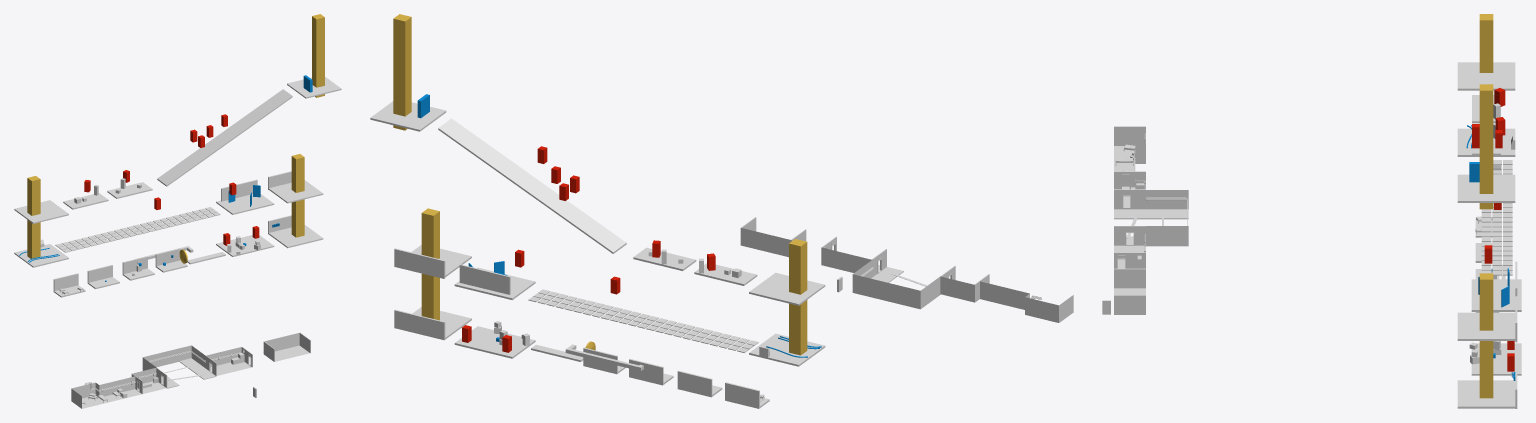
Rendered from project11_blockout2.fbx.
The picture shows the model from 3 angles, left to right: view 1: azimuth 30°, elevation 25°; view 2: azimuth 150°, elevation 25°; view 3: azimuth 270°, elevation 25°; orthographic projection. The views are drawn at different scales.
Parts seen in each view (by area): view 1: Cube.068, Plane.005, Cube.055, Cube.031, Plane.007, Cube.071, Plane.003, Plane.002, Cube.042, Cube.053, Cube.030, Cube.032 (+14 smaller); view 2: Cube.068, Plane.005, Cube.055, Cube.071, Cube.031, Cube.050, Cube.056, Cube.053, Cube.051, Plane.007, Cube.019, Plane.003 (+12 smaller); view 3: Plane.005, Cube.071, Cube.031, Plane.007, Cube.030, Cube.032, Cube.056, Cube.070, Plane.003, Cube.042, Cube.055, Cube.050 (+7 smaller).
Part boxes in pixels (bbox=[...]): Cube.068: bbox=[157, 89, 292, 186]; Plane.005: bbox=[142, 345, 216, 388]; Cube.055: bbox=[27, 176, 40, 259]; Cube.031: bbox=[291, 154, 304, 237]; Plane.007: bbox=[263, 332, 310, 361]; Cube.071: bbox=[312, 14, 324, 97]; Plane.003: bbox=[205, 347, 252, 375]; Plane.002: bbox=[95, 373, 142, 402]; Cube.042: bbox=[216, 194, 274, 214]; Cube.053: bbox=[62, 212, 220, 252]; Cube.030: bbox=[268, 225, 323, 248]; Cube.032: bbox=[268, 180, 323, 203]; Cube.068: bbox=[438, 118, 626, 253]; Plane.005: bbox=[852, 260, 940, 309]; Cube.055: bbox=[789, 239, 807, 355]; Cube.071: bbox=[393, 14, 411, 130]; Cube.031: bbox=[421, 208, 439, 320]; Cube.050: bbox=[528, 296, 748, 352]; Cube.056: bbox=[749, 272, 825, 305]; Cube.053: bbox=[538, 289, 758, 345]; Cube.051: bbox=[533, 293, 753, 349]; Plane.007: bbox=[740, 217, 806, 257]; Cube.019: bbox=[454, 326, 535, 358]; Plane.003: bbox=[821, 236, 886, 277]; Plane.005: bbox=[1114, 190, 1188, 246]; Cube.071: bbox=[1479, 84, 1493, 209]; Cube.031: bbox=[1479, 273, 1493, 398]; Plane.007: bbox=[1114, 268, 1145, 314]; Cube.030: bbox=[1457, 380, 1515, 408]; Cube.032: bbox=[1457, 312, 1515, 340]; Cube.056: bbox=[1457, 62, 1515, 90]; Cube.070: bbox=[1457, 174, 1515, 202]; Plane.003: bbox=[1114, 226, 1145, 268]; Cube.042: bbox=[1471, 279, 1521, 311]; Cube.055: bbox=[1479, 14, 1493, 72]; Cube.050: bbox=[1503, 160, 1512, 275].
Size of the model in its own units: 61156 by 37900 by 39332.
